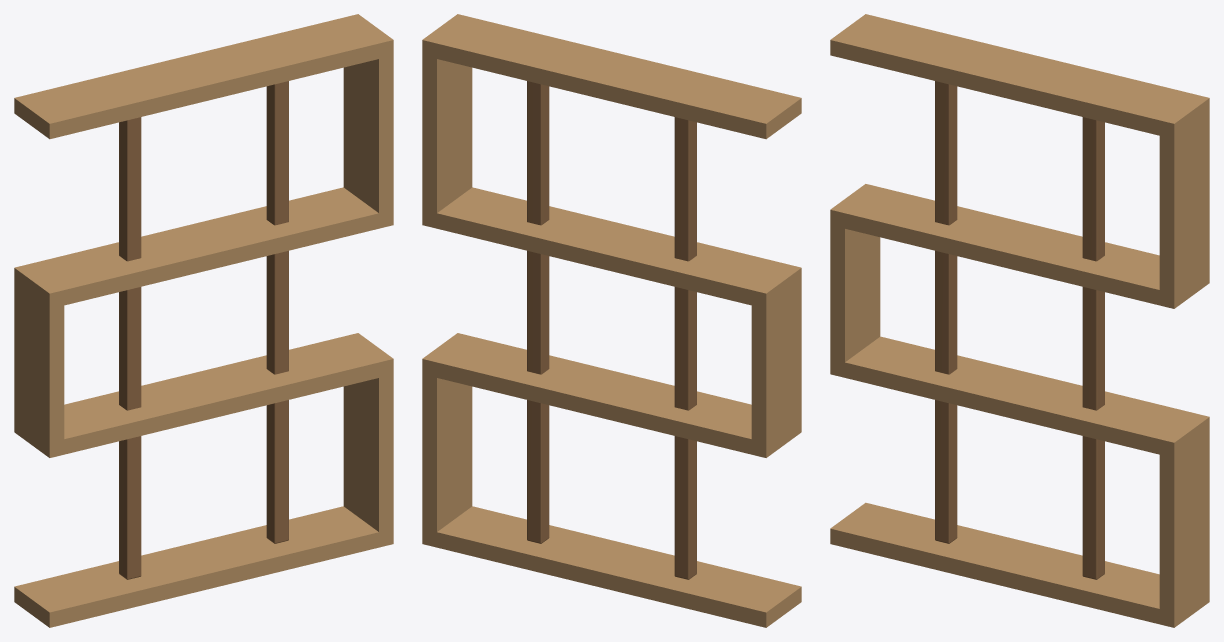
Rendered from Contemporary Shelves.glb.
The picture shows the model from 3 angles, left to right: view 1: azimuth 30°, elevation 25°; view 2: azimuth 150°, elevation 25°; view 3: azimuth 330°, elevation 25°; orthographic projection.
Parts seen in each view (by area): view 1: Plate, PoleRight, PoleLeft; view 2: Plate, PoleRight, PoleLeft; view 3: Plate, PoleLeft, PoleRight.
Part boxes in pixels (x1,y1,x2,y2): Plate: (14, 14, 393, 627); PoleRight: (119, 117, 141, 579); PoleLeft: (266, 81, 288, 543); Plate: (422, 14, 801, 627); PoleRight: (674, 117, 696, 579); PoleLeft: (527, 81, 549, 543); Plate: (830, 14, 1209, 627); PoleLeft: (1082, 117, 1104, 579); PoleRight: (935, 81, 957, 543).
Bounding box in the file's own units: 1.75 × 2.45 × 0.3125.
